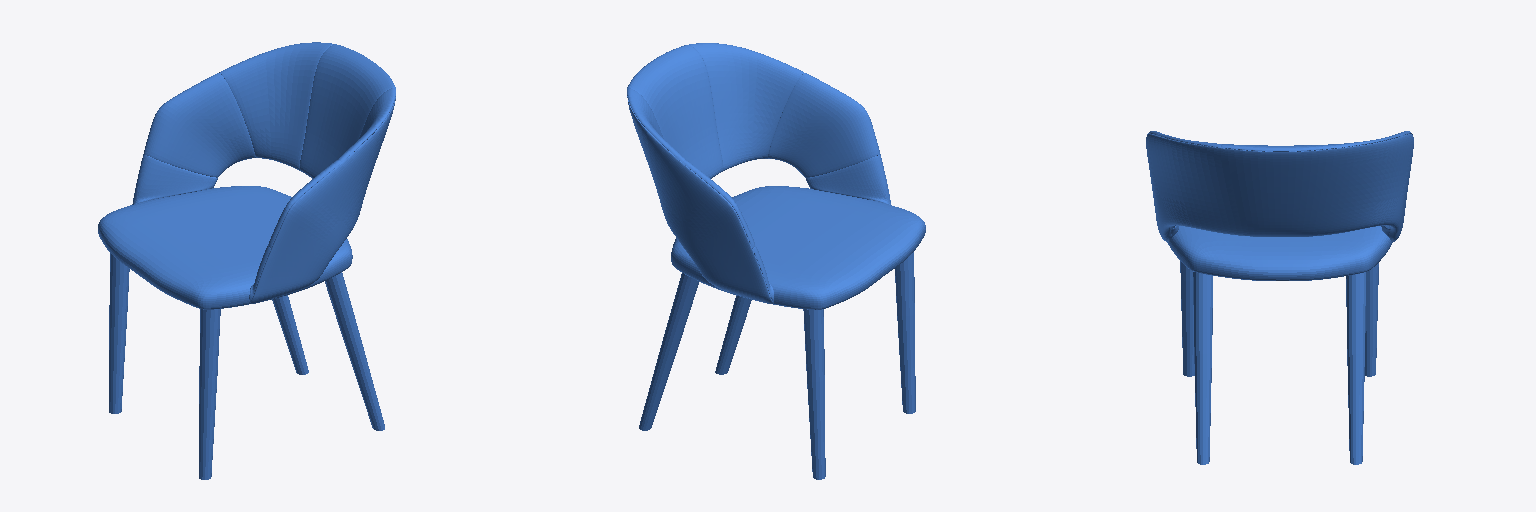
Rendered from Andorra__corona.obj.
3 renders of one model, left to right at view 1: azimuth 30°, elevation 25°; view 2: azimuth 150°, elevation 25°; view 3: azimuth 270°, elevation 25°, orthographic.
Parts seen in each view (by area): view 1: Andorra_046, Andorra_044, Andorra_045, Andorra_041, Andorra_047, Andorra_042; view 2: Andorra_046, Andorra_044, Andorra_047, Andorra_042, Andorra_045, Andorra_041; view 3: Andorra_046, Andorra_044, Andorra_041, Andorra_042, Andorra_045, Andorra_047.
Part boxes in pixels (x1,y1,x2,y2): Andorra_046: (132, 42, 395, 303); Andorra_044: (98, 186, 352, 309); Andorra_045: (199, 309, 220, 479); Andorra_041: (325, 272, 384, 430); Andorra_047: (109, 253, 129, 413); Andorra_042: (272, 295, 308, 374); Andorra_046: (627, 43, 890, 303); Andorra_044: (671, 186, 925, 309); Andorra_047: (803, 309, 825, 479); Andorra_042: (639, 273, 698, 430); Andorra_045: (895, 252, 915, 413); Andorra_041: (715, 296, 751, 374); Andorra_046: (1146, 131, 1413, 241); Andorra_044: (1167, 226, 1392, 280); Andorra_041: (1193, 272, 1212, 464); Andorra_042: (1346, 272, 1365, 464); Andorra_045: (1180, 261, 1194, 376); Andorra_047: (1365, 263, 1378, 376).
Size of the model in its own units: 651 by 855 by 630.